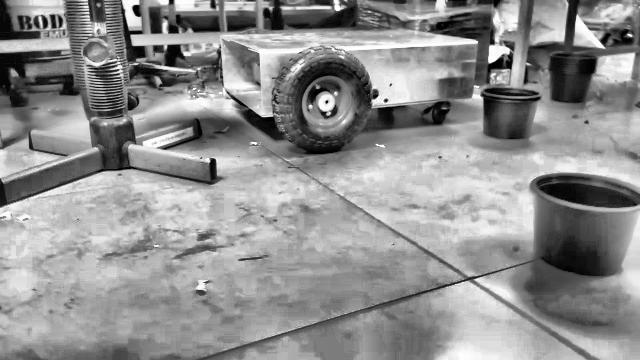pot: (531, 174, 639, 276), (481, 88, 541, 139), (550, 53, 597, 103)
